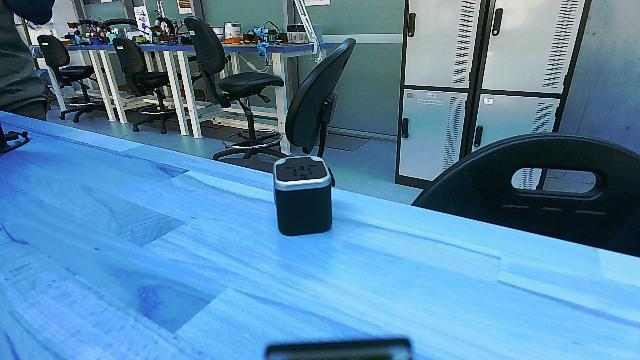adapter: (262, 144, 341, 238)
